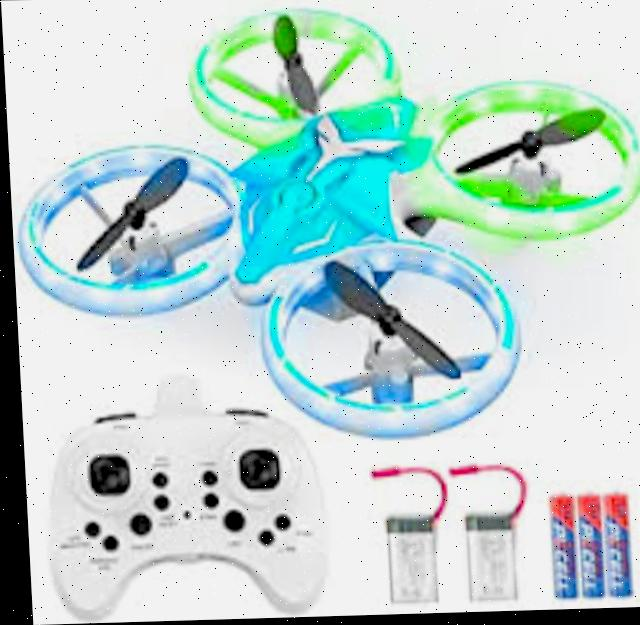drone: (0, 0, 640, 458)
